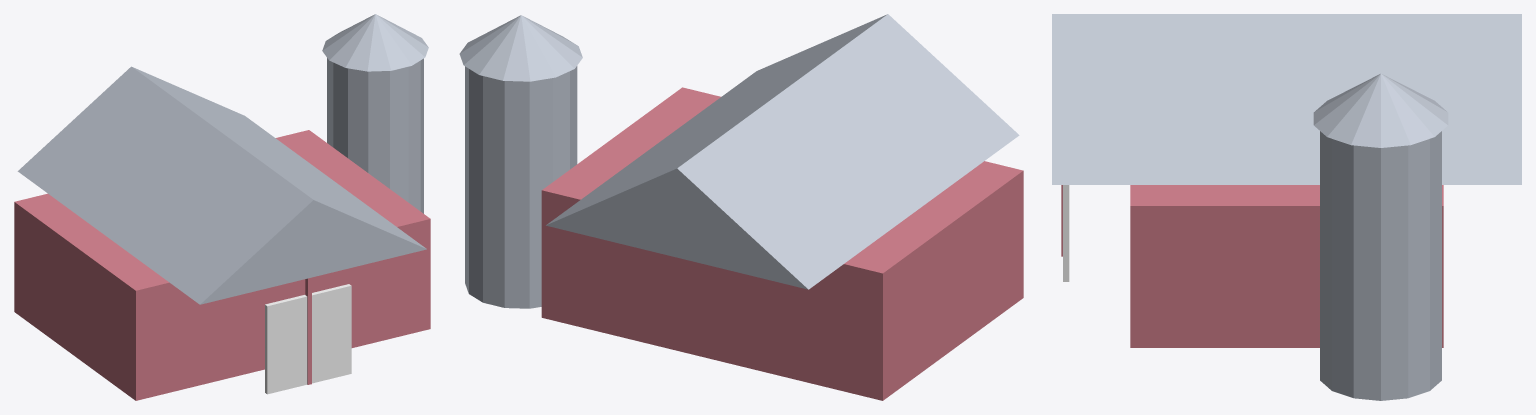
The model's file is barn.glb.
3 renders of one model, left to right at view 1: azimuth 30°, elevation 25°; view 2: azimuth 150°, elevation 25°; view 3: azimuth 270°, elevation 25°, orthographic. The views are drawn at different scales.
Visible parts, largest first — view 1: barn_metal, barn_barn_red, barn_white; view 2: barn_metal, barn_barn_red; view 3: barn_metal, barn_barn_red, barn_white.
Part boxes in pixels (x1,y1,x2,y2): barn_metal: (17,14,428,304); barn_barn_red: (14,130,430,400); barn_white: (265,284,351,394); barn_metal: (459,14,1019,308); barn_barn_red: (541,87,1023,400); barn_metal: (1052,14,1521,400); barn_barn_red: (1061,185,1443,347); barn_white: (1063,185,1069,281).
Size of the model in its own units: 18.2 by 10.6 by 15.
